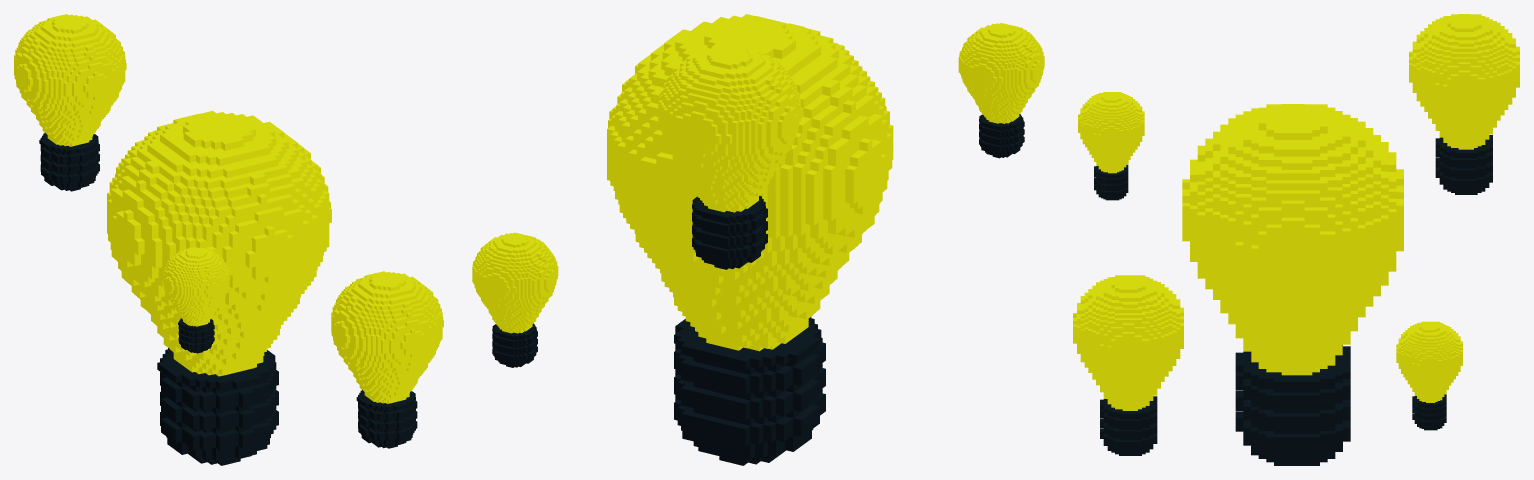
The model's file is area_interactive_01.gltf.
3 views of the same model, side by side, from view 1: azimuth 30°, elevation 25°; view 2: azimuth 150°, elevation 25°; view 3: azimuth 270°, elevation 25° (orthographic). The views are drawn at different scales.
Parts seen in each view (by area): view 1: bombillobox-0-Bombillo.001; view 2: bombillobox-0-Bombillo.001; view 3: bombillobox-0-Bombillo.001.
Boxes of the visible parts, bbox=[...] form: bombillobox-0-Bombillo.001: bbox=[14, 14, 443, 465]; bombillobox-0-Bombillo.001: bbox=[472, 14, 1044, 465]; bombillobox-0-Bombillo.001: bbox=[1073, 14, 1519, 465].
Size of the model in its own units: 5.97 by 7.7 by 7.79.
